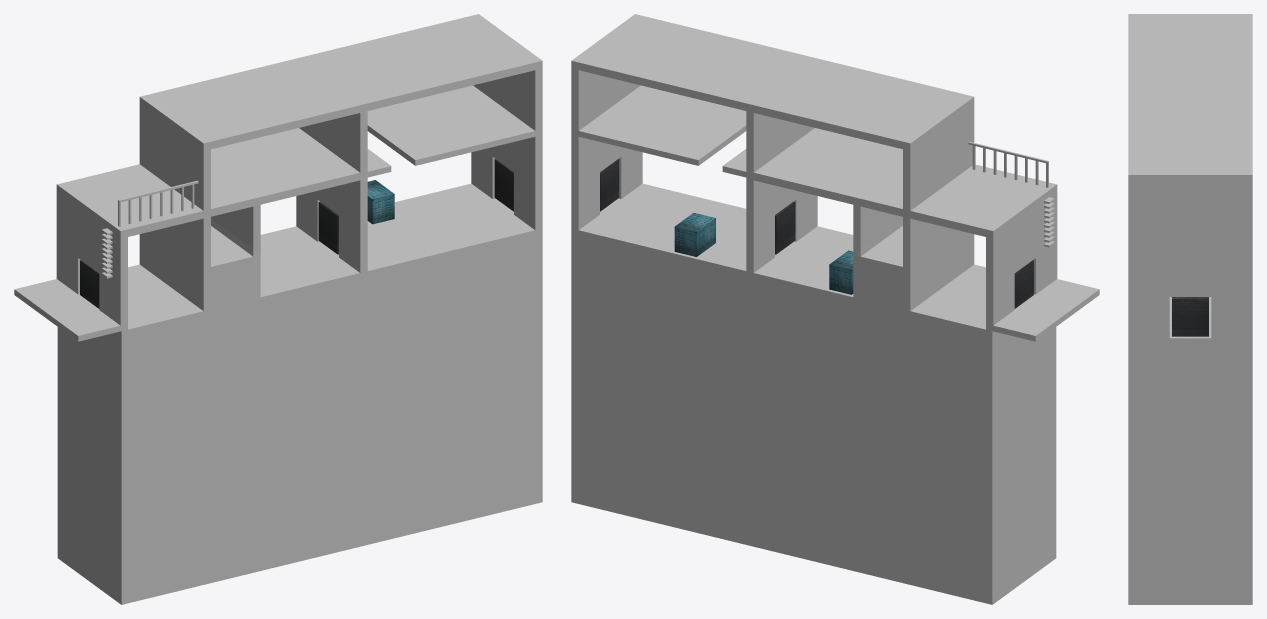
File: demoworld2.FBX
3 views of the same model, side by side, from view 1: azimuth 30°, elevation 25°; view 2: azimuth 150°, elevation 25°; view 3: azimuth 270°, elevation 25° (orthographic). The views are drawn at different scales.
Visible parts, largest first — view 1: Box007, Line001, Object002, Line006, Object006, Line004, Box010, Line005, Box004, Box008, Box009; view 2: Box007, Line001, Object002, Line006, Object006, Line004, Box010, Line005, Box002, Box004, Box008, Box009; view 3: Box007, Line006, Object002, Box008.
Boxes of the visible parts, <box> form: Box007: <box>57,183,542,604</box>; Line001: <box>14,85,535,341</box>; Object002: <box>139,68,542,310</box>; Line006: <box>139,14,542,150</box>; Object006: <box>56,192,127,325</box>; Line004: <box>211,205,260,256</box>; Box010: <box>367,180,394,224</box>; Line005: <box>118,180,198,226</box>; Box004: <box>318,201,338,254</box>; Box008: <box>494,159,513,211</box>; Box009: <box>80,260,99,308</box>; Box007: <box>571,183,1056,604</box>; Line001: <box>578,85,1099,341</box>; Object002: <box>571,68,974,310</box>; Line006: <box>571,14,974,150</box>; Object006: <box>986,192,1057,325</box>; Line004: <box>853,205,902,256</box>; Box010: <box>674,213,715,256</box>; Line005: <box>968,141,1048,187</box>; Box002: <box>829,250,853,294</box>; Box004: <box>775,201,795,254</box>; Box008: <box>600,159,619,211</box>; Box009: <box>1014,260,1033,308</box>; Box007: <box>1128,297,1252,604</box>; Line006: <box>1128,14,1252,182</box>; Object002: <box>1128,182,1252,338</box>; Box008: <box>1172,297,1208,336</box>.
Size of the model in its own units: 252 by 229 by 60.
